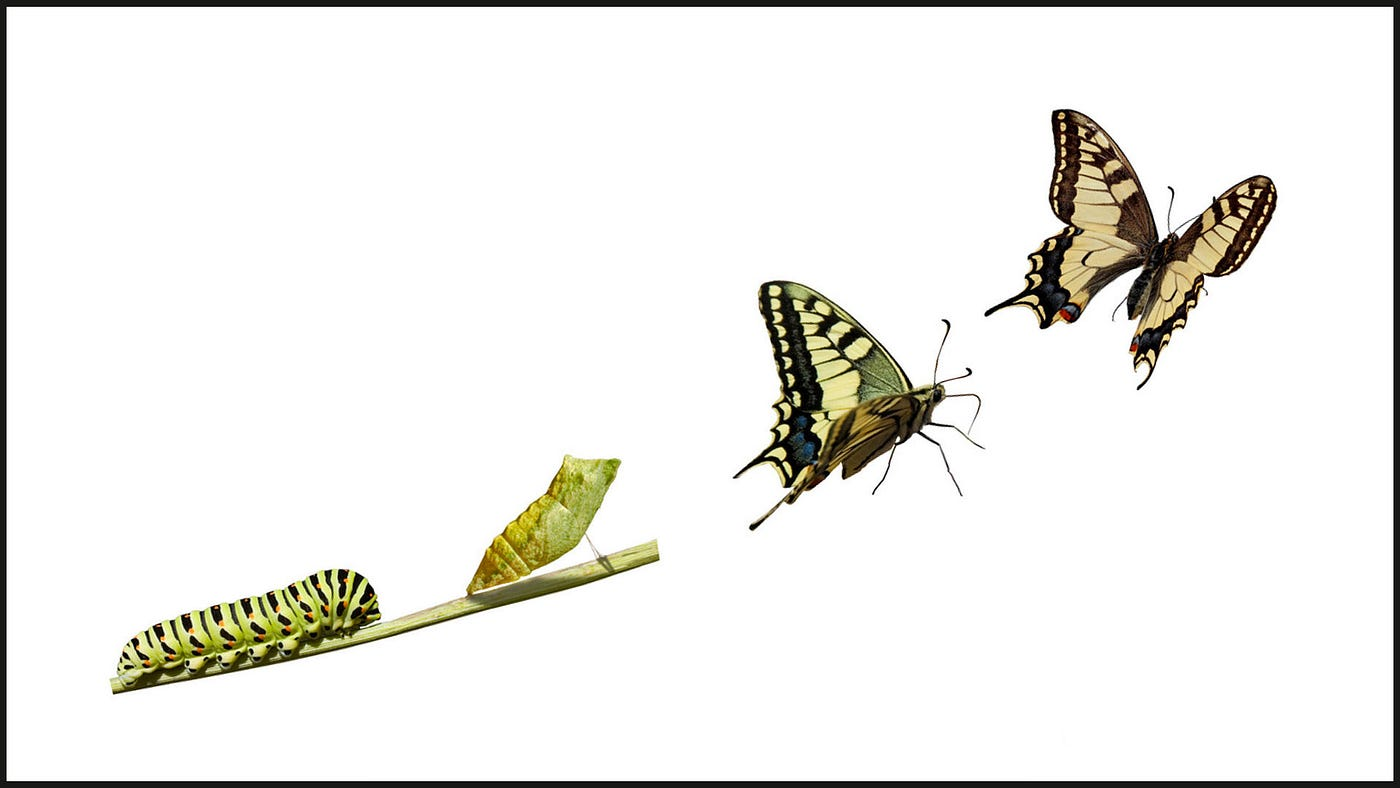Butterfly: (985, 105, 1281, 398), (722, 268, 988, 544)
Caterpillar: (116, 570, 384, 685)
